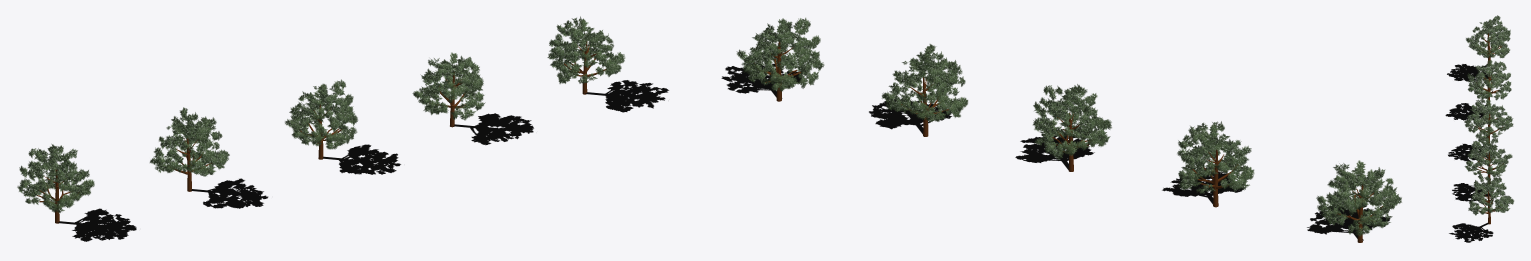
The model's file is treelineEW1.glb.
The picture shows the model from 3 angles, left to right: view 1: azimuth 30°, elevation 25°; view 2: azimuth 150°, elevation 25°; view 3: azimuth 270°, elevation 25°; orthographic projection. The views are drawn at different scales.
Parts seen in each view (by area): view 1: trees, shadows; view 2: trees, shadows; view 3: trees, shadows.
Boxes of the visible parts, box(x1,y1,x2,y2) form: trees: box(17, 16, 625, 223); shadows: box(56, 80, 668, 241); trees: box(736, 18, 1401, 242); shadows: box(721, 63, 1389, 240); trees: box(1464, 15, 1514, 224); shadows: box(1445, 64, 1493, 242).
Bounding box in the file's own units: 121 × 13.97 × 21.9.
7 materials, 6 textured.
